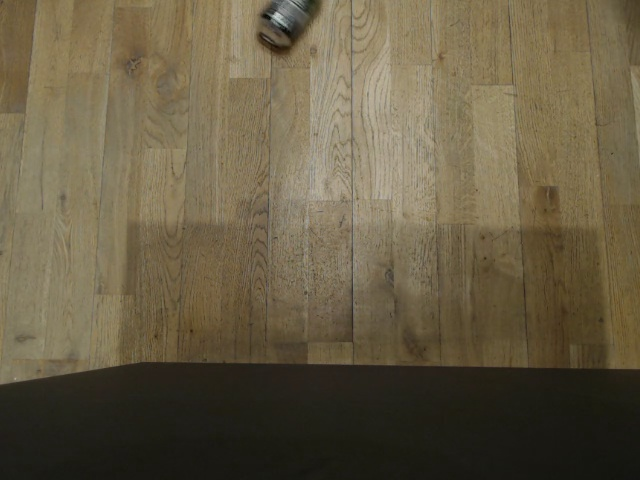beer: (256, 0, 323, 47)
